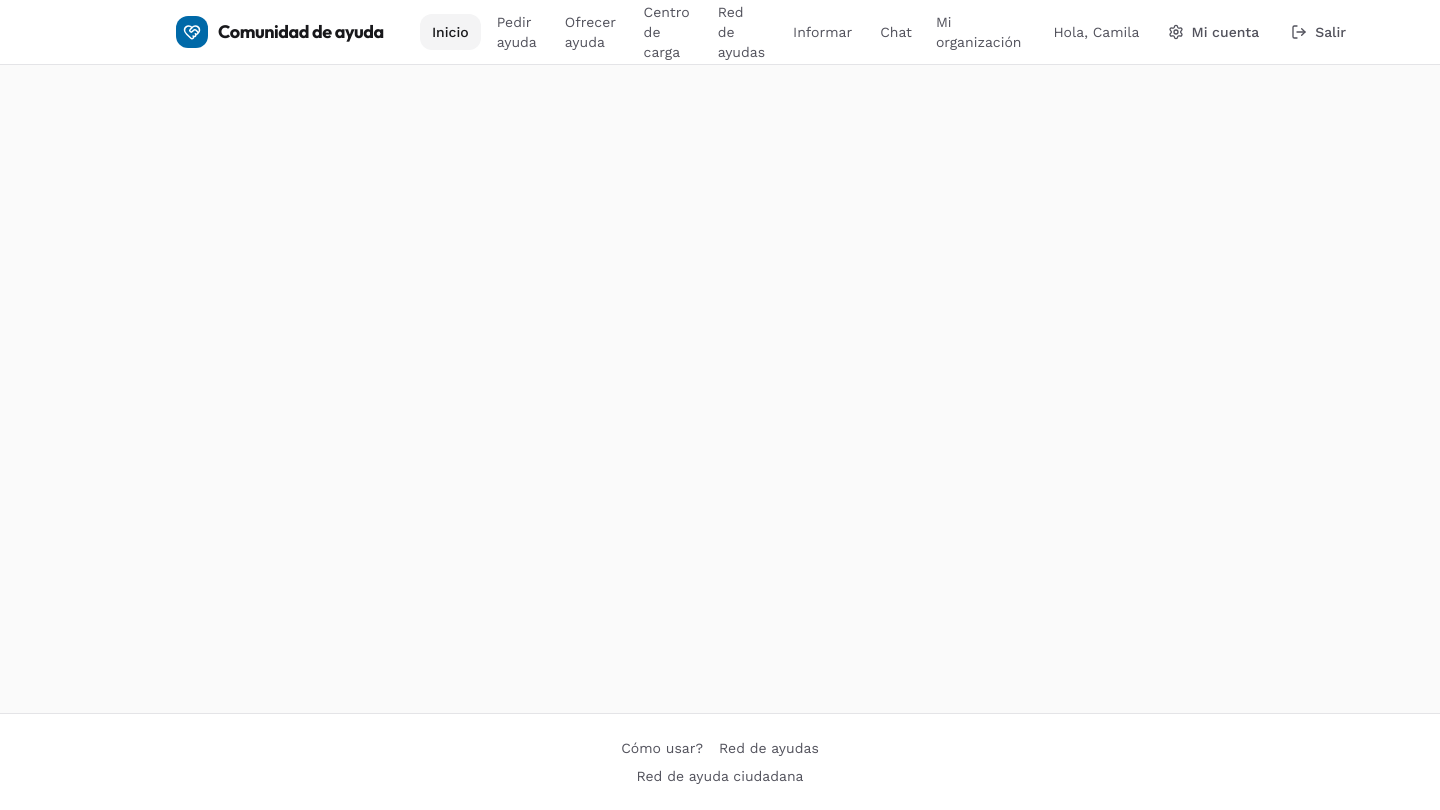
Scenario: Layout › cierra la sesión y vuelve a mostrar los enlaces de acceso
This screenshot has width=1440, height=810.
Click the button "Salir" at (1319, 32), box [1279,16,1358,48]
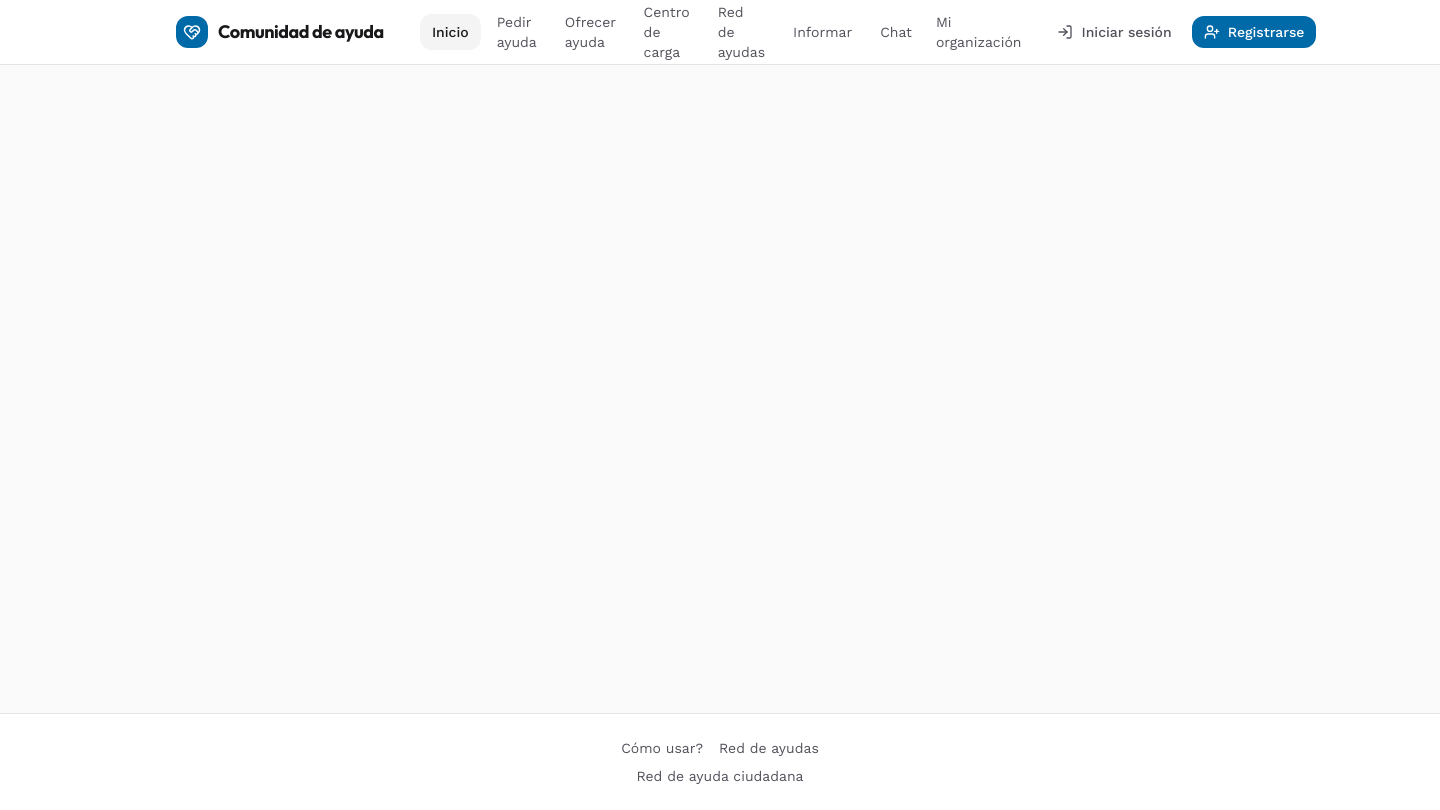
Check: the link "Iniciar sesión" is shown, box [1058,24,1172,40]
Check: the button "Salir" is gone
